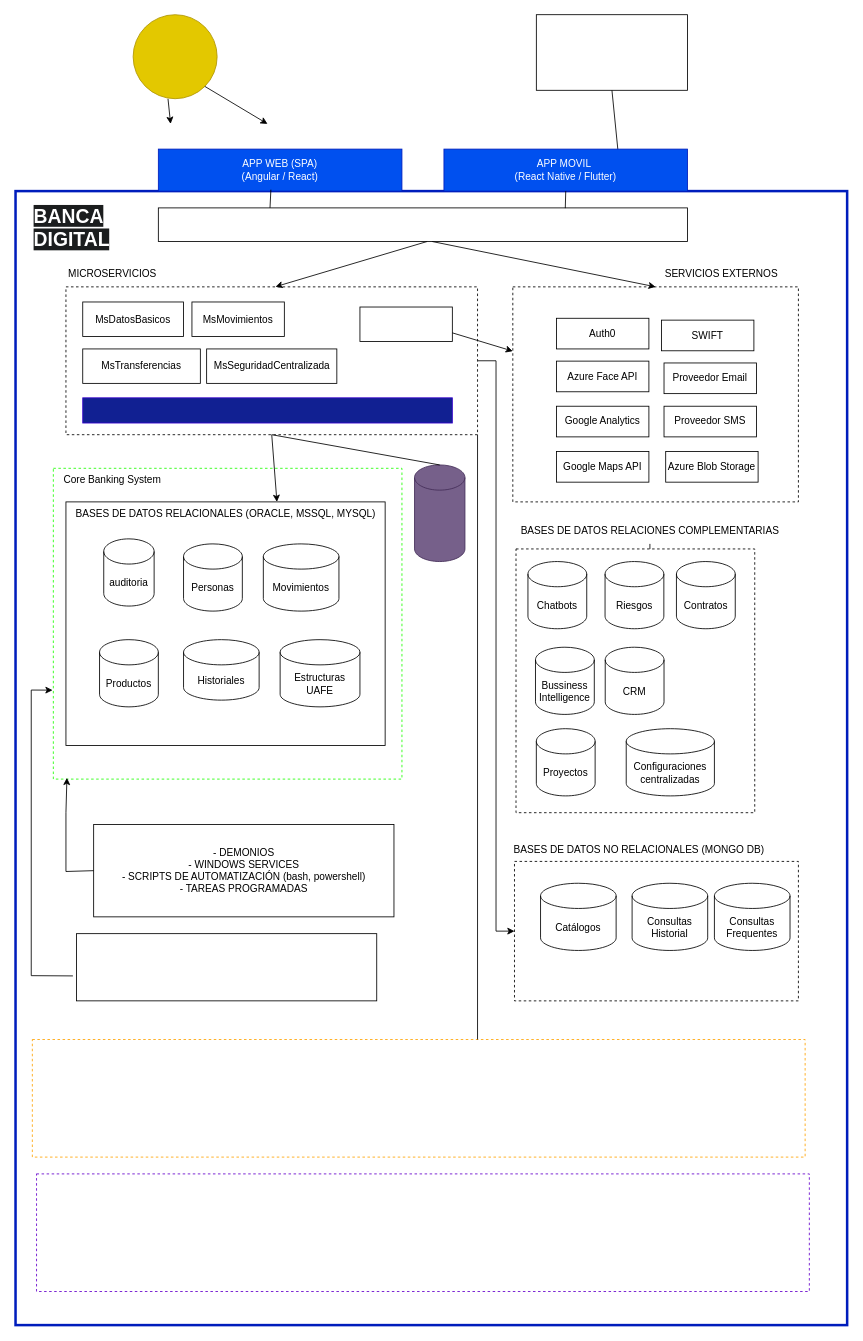
The diagram is 863 pixels wide and 1341 high, and some of its shapes have lost their labels. The shapes that lost their labels are listed below. From the top down, each one's centre as x and y in pixels, then its label:
the point at 174,56: Usuario/Cliente Final
the point at 612,52: Entidades de regulación o supervisión
the point at 423,224: API GATEWAY
the point at 405,323: MsNotificaciones
the point at 267,410: NUGGETS DE AUDITORIA, UTILITARIOS Y PROCESOS COMUNES
the point at 439,513: REDIS CACHÉ
the point at 226,967: CORE PROGRAMAS COBOL / C++
the point at 418,1098: SISTEMA DE COLAS DE MENSAJERÍA (RABBIT MQ)
the point at 422,1232: SISTEMA DE MONITOREO DE AUDITORÍA Y TRAZABILIDAD (SEQ / ELASTIC SEARCH + Kibana)
